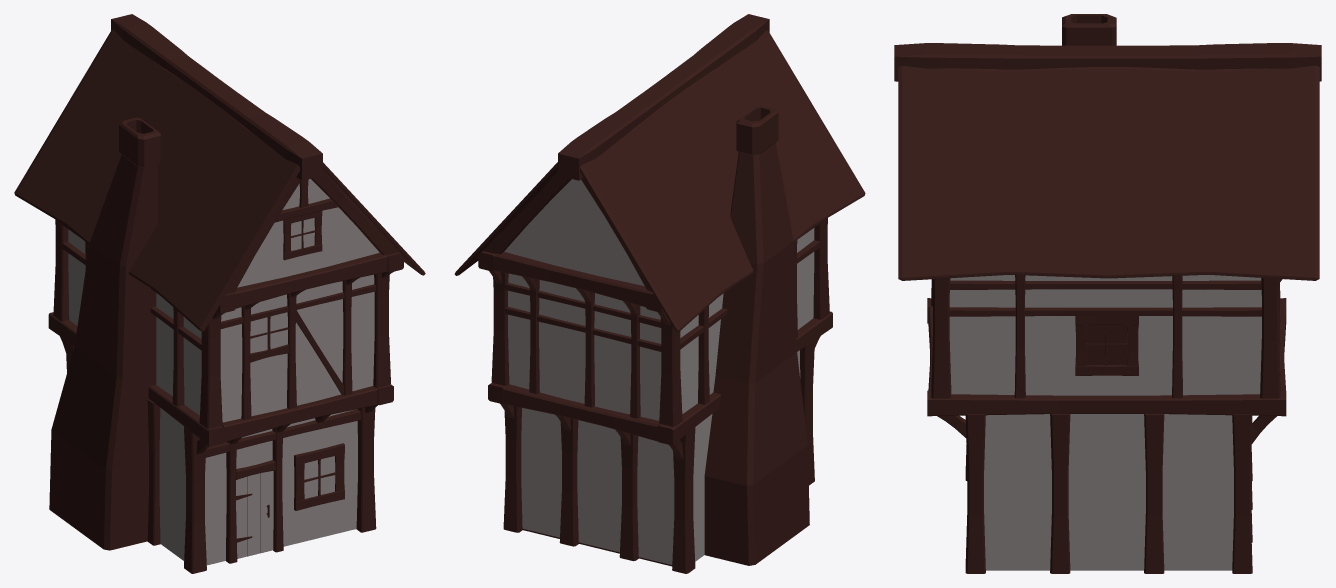
File: Medieval_House_Assets_Pack.fbx
3 renders of one model, left to right at view 1: azimuth 30°, elevation 25°; view 2: azimuth 150°, elevation 25°; view 3: azimuth 270°, elevation 25°, orthographic. The views are drawn at different scales.
Visible parts, largest first — view 1: Mortar_House_Small_2; view 2: Mortar_House_Small_2; view 3: Mortar_House_Small_2.
Boxes of the visible parts, x1=… form: Mortar_House_Small_2: x1=14, y1=14, x2=425, y2=573; Mortar_House_Small_2: x1=454, y1=14, x2=865, y2=573; Mortar_House_Small_2: x1=894, y1=14, x2=1321, y2=573.
Size of the model in its own units: 532 by 873 by 716.
